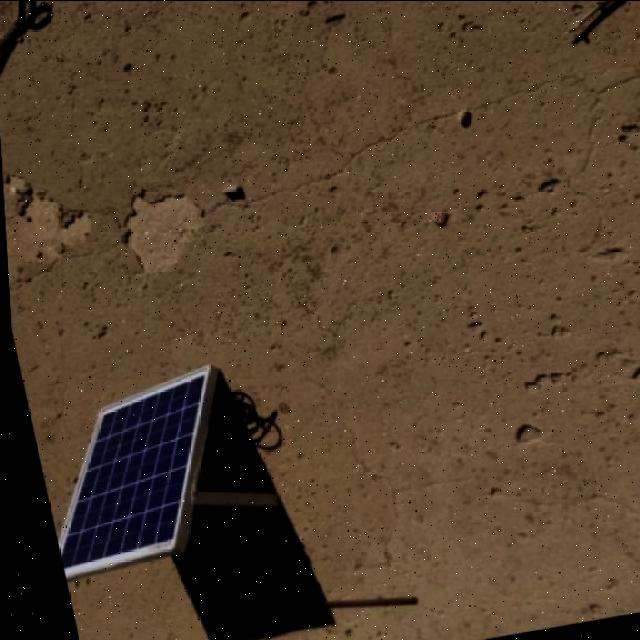Normal Solar Panel: (19, 366, 241, 578)
